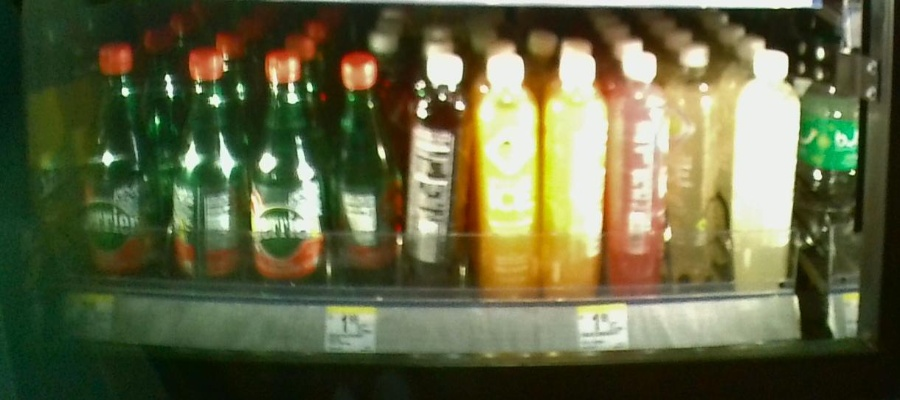bottle: (249, 43, 324, 291), (328, 45, 401, 293), (168, 42, 243, 282), (732, 46, 804, 296), (82, 42, 154, 282), (405, 46, 470, 293), (546, 43, 609, 296), (476, 54, 540, 296), (612, 47, 671, 299), (672, 43, 724, 296)
